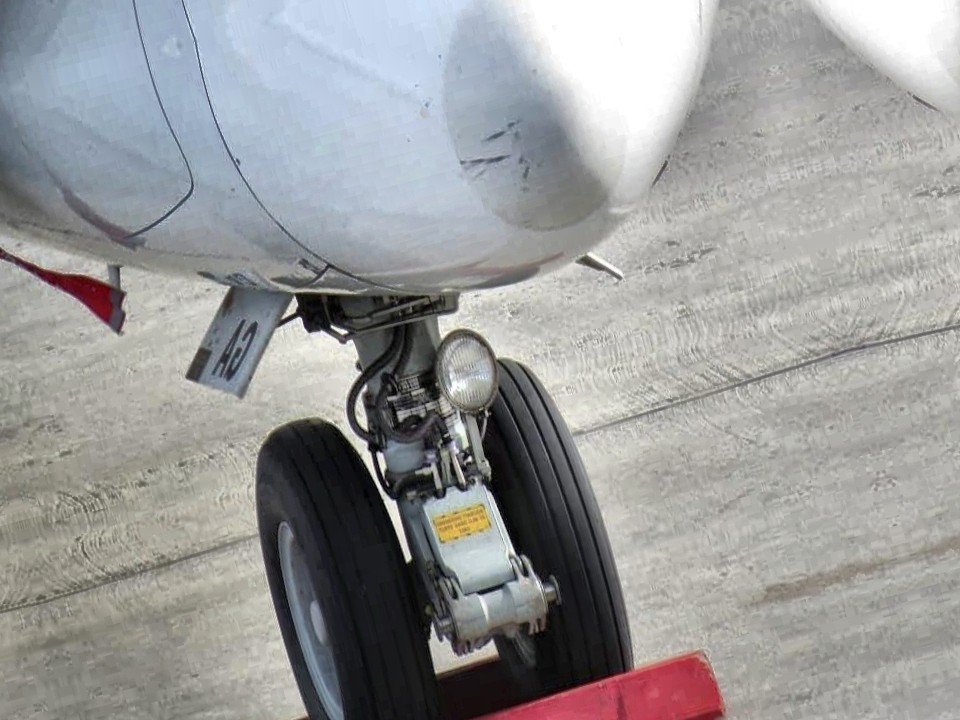chock: (279, 635, 739, 720), (180, 635, 559, 720)
wheel: (430, 337, 644, 704), (229, 400, 454, 720)
